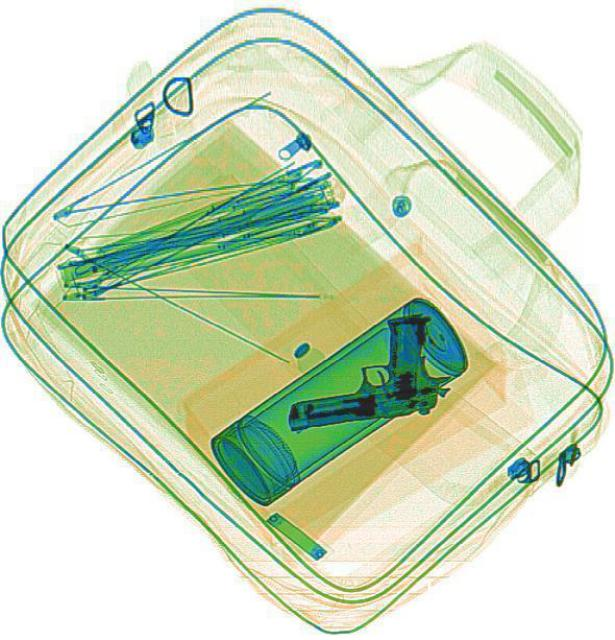Gun: (274, 312, 453, 430)
